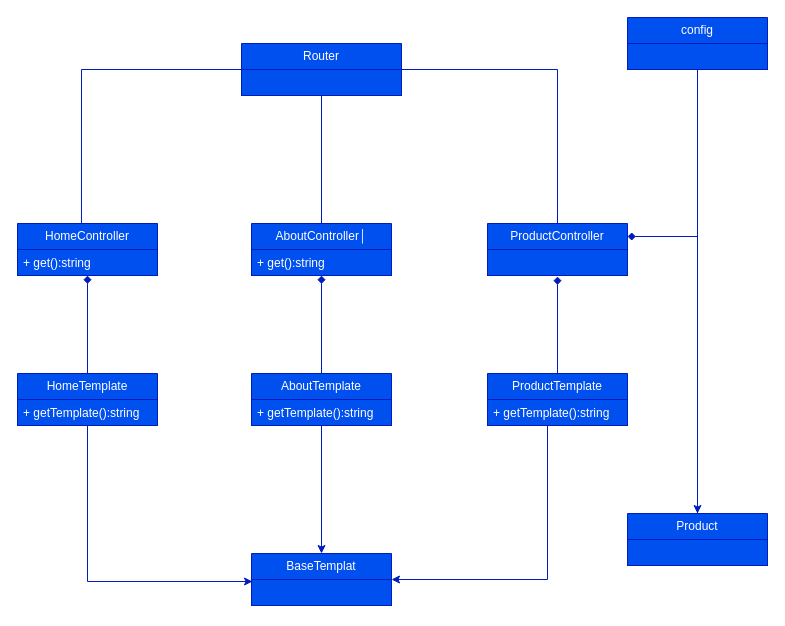
Some shapes in this 785 by 626 pixel diagram are drawn without their labels. The centre of each missing label's shape, as x and y in pixels:
+ get($id:int):string: the point at 557,262
+ load Date array: the point at 697,552
+ route(url : string) : string: the point at 321,82
FILE. DATA : string: the point at 697,56
getTemplate():string: the point at 321,592
